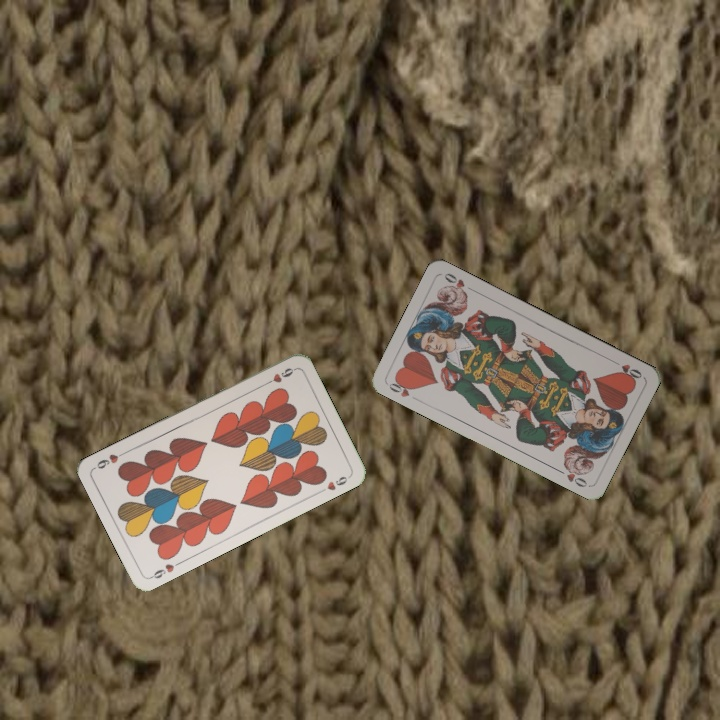H9: (260, 364, 298, 388), (146, 558, 184, 581)
HO: (384, 375, 422, 404), (607, 356, 645, 383)
